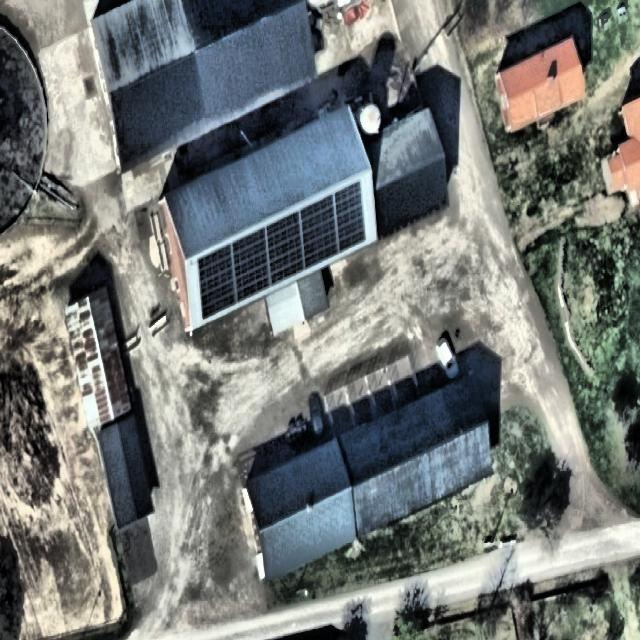roof_pv: (195, 244, 237, 325), (264, 212, 303, 285), (301, 194, 340, 267), (231, 225, 270, 296), (334, 178, 370, 252)
